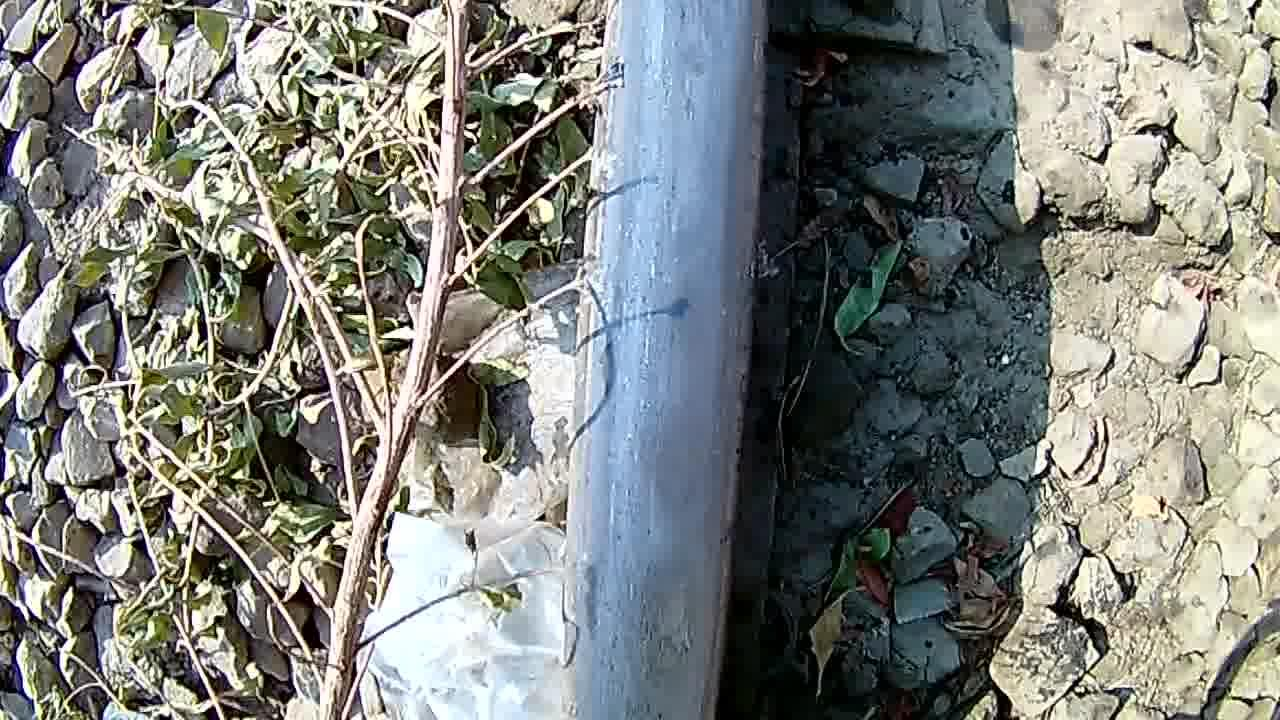bolt_missing: (599, 9, 764, 720)
